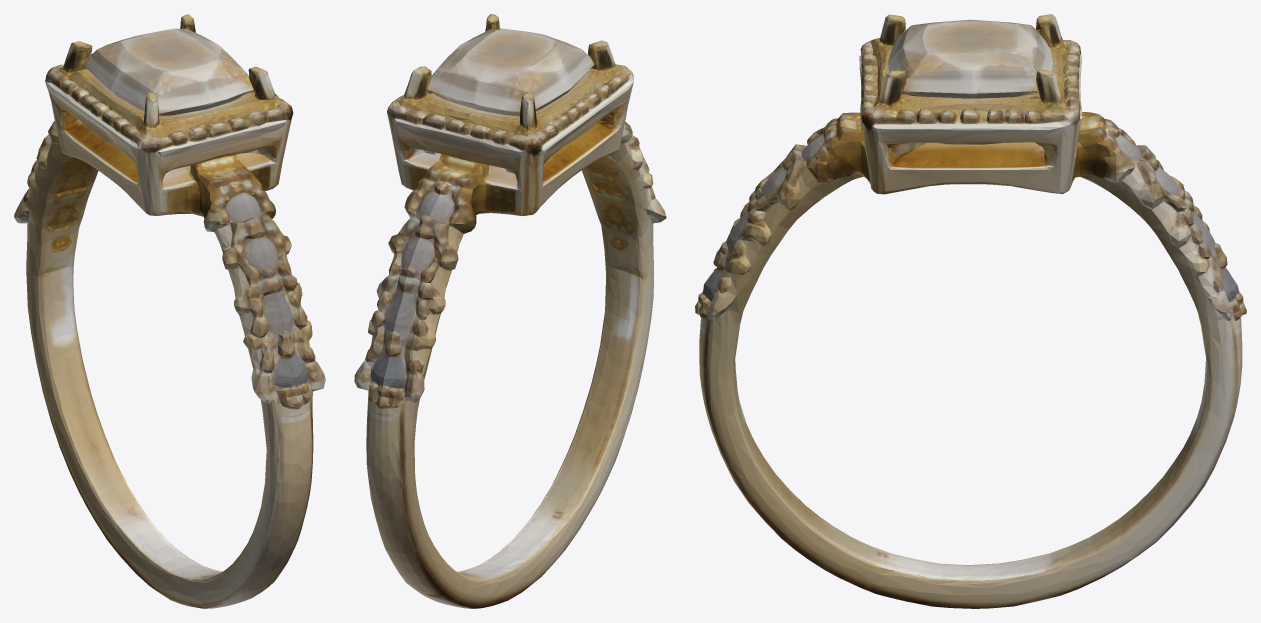
File: ring1.gltf
The picture shows the model from 3 angles, left to right: view 1: azimuth 30°, elevation 25°; view 2: azimuth 150°, elevation 25°; view 3: azimuth 270°, elevation 25°; orthographic projection. The views are drawn at different scales.
Parts seen in each view (by area): view 1: world; view 2: world; view 3: world.
Boxes of the visible parts, <box> form: world: <box>14,14,325,608</box>; world: <box>354,14,666,608</box>; world: <box>695,14,1246,608</box>.
Bounding box in the file's own units: 0.3074 × 0.996 × 0.8807.
Materials: 1 (1 with a texture image).
